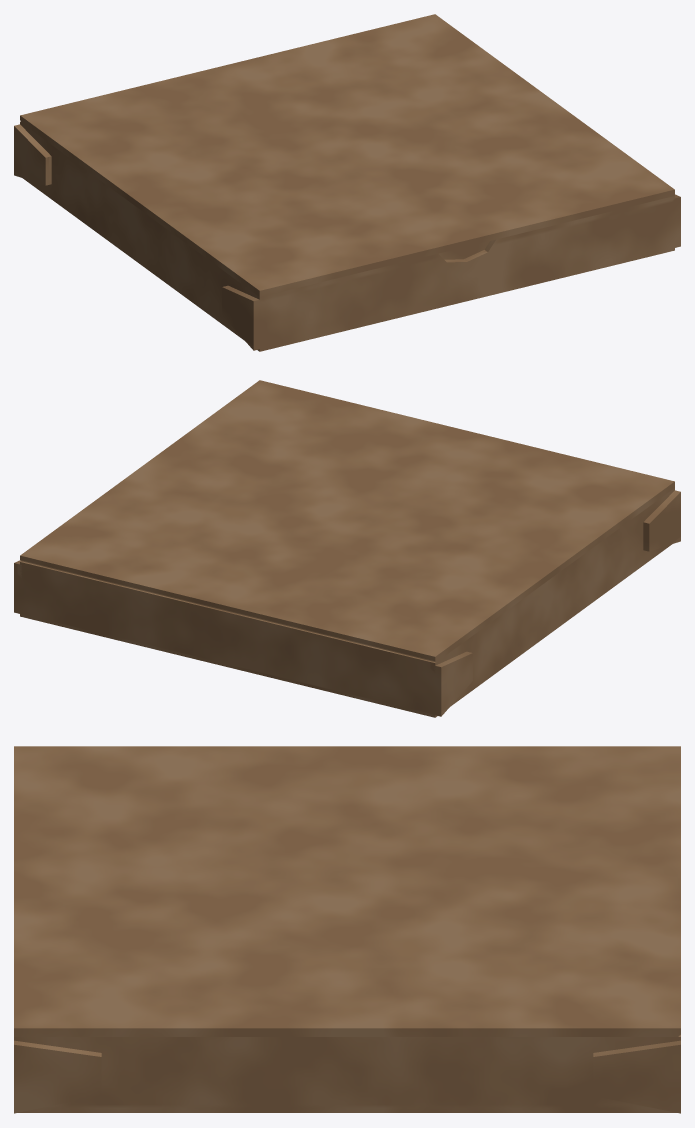
The model's file is PizzaBox.fbx.
3 views of the same model, one above another, from view 1: azimuth 30°, elevation 25°; view 2: azimuth 150°, elevation 25°; view 3: azimuth 270°, elevation 25° (orthographic). The views are drawn at different scales.
Parts seen in each view (by area): view 1: PizzaBox_Lid, PizzaBox_Tray; view 2: PizzaBox_Lid, PizzaBox_Tray; view 3: PizzaBox_Lid, PizzaBox_Tray.
Part boxes in pixels (x1=…): PizzaBox_Lid: x1=20, y1=14, x2=674, y2=296; PizzaBox_Tray: x1=14, y1=121, x2=680, y2=351; PizzaBox_Lid: x1=20, y1=380, x2=674, y2=662; PizzaBox_Tray: x1=14, y1=488, x2=680, y2=717; PizzaBox_Lid: x1=14, y1=746, x2=680, y2=1036; PizzaBox_Tray: x1=14, y1=1035, x2=680, y2=1113.
Bounding box in the file's own units: 0.704 × 0.096 × 0.684.
